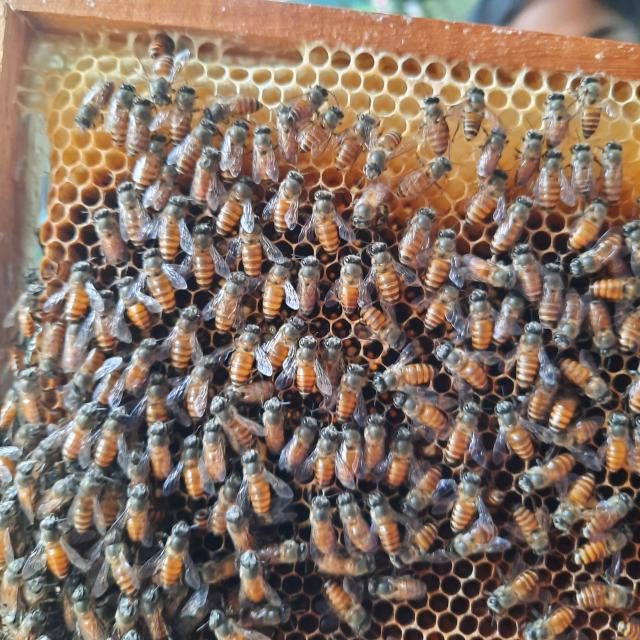honeybee: (340, 174, 406, 238), (434, 341, 491, 404), (230, 544, 273, 626), (140, 418, 185, 495), (391, 519, 457, 570), (87, 208, 135, 278), (320, 580, 376, 640), (418, 222, 462, 296), (151, 525, 199, 589), (286, 102, 341, 157), (172, 114, 218, 179), (560, 353, 612, 410), (367, 492, 408, 564), (132, 256, 180, 317), (63, 398, 104, 469), (91, 408, 136, 472), (306, 490, 341, 571), (338, 430, 379, 499), (381, 427, 423, 494), (136, 587, 189, 640), (567, 225, 619, 279), (182, 427, 217, 507), (490, 192, 534, 255), (343, 490, 379, 567), (190, 213, 227, 287), (455, 468, 494, 538), (521, 452, 581, 497), (210, 467, 250, 534), (212, 396, 252, 463), (580, 478, 629, 532), (307, 190, 347, 256), (536, 259, 575, 326), (450, 245, 512, 287), (177, 358, 217, 423), (574, 76, 612, 144), (110, 80, 146, 150), (491, 403, 530, 466), (114, 181, 150, 249), (384, 394, 445, 434), (512, 320, 546, 391), (568, 134, 598, 214), (68, 342, 108, 402), (228, 316, 263, 384), (400, 200, 437, 264), (147, 198, 190, 253), (487, 576, 542, 619), (360, 300, 402, 356), (73, 458, 102, 539), (268, 169, 304, 234), (293, 253, 326, 323), (513, 506, 557, 558), (261, 312, 301, 369), (440, 406, 478, 466), (568, 524, 628, 562), (122, 94, 157, 159), (512, 601, 570, 640), (164, 306, 201, 367), (370, 236, 403, 304), (200, 420, 234, 486), (362, 122, 398, 184), (513, 128, 549, 190), (466, 286, 502, 348), (555, 289, 591, 351), (93, 293, 130, 353), (400, 152, 454, 193), (453, 518, 508, 558), (250, 122, 286, 183), (572, 577, 633, 613), (468, 170, 507, 226), (374, 362, 436, 397), (286, 411, 324, 468), (77, 75, 113, 135), (598, 142, 634, 202), (10, 374, 47, 432), (218, 177, 252, 240), (103, 534, 137, 597), (135, 152, 176, 204), (38, 469, 74, 528), (330, 360, 362, 426), (262, 396, 294, 461), (290, 335, 321, 401), (563, 199, 614, 239), (555, 470, 585, 538), (94, 472, 128, 532), (64, 259, 96, 322), (239, 448, 272, 509), (259, 259, 295, 314), (117, 434, 153, 489), (15, 285, 50, 340), (217, 114, 244, 184), (40, 516, 67, 586), (131, 128, 163, 187), (140, 367, 170, 429), (606, 410, 634, 476), (272, 84, 323, 120), (418, 100, 452, 154), (223, 509, 259, 560), (406, 466, 446, 511), (367, 571, 427, 601), (123, 334, 155, 390), (117, 277, 150, 331), (517, 250, 548, 307), (204, 612, 267, 640), (259, 528, 299, 572), (334, 255, 363, 315), (538, 89, 570, 143), (342, 105, 368, 171), (239, 208, 265, 274), (198, 93, 266, 118), (12, 464, 39, 526), (230, 372, 280, 404), (475, 126, 503, 182), (21, 542, 48, 600), (188, 142, 214, 202), (212, 272, 238, 331), (66, 589, 96, 640), (124, 482, 144, 558), (314, 430, 341, 486), (363, 414, 384, 486), (594, 301, 620, 359), (423, 290, 455, 337), (61, 324, 88, 379), (492, 294, 518, 349), (526, 369, 554, 420), (154, 54, 183, 102), (591, 272, 640, 300), (104, 599, 137, 640), (319, 332, 340, 396), (274, 104, 299, 157), (463, 92, 488, 143), (538, 148, 558, 210), (549, 389, 575, 436), (0, 552, 19, 615), (42, 316, 61, 378), (34, 415, 62, 456), (172, 92, 196, 138), (618, 308, 640, 356), (9, 606, 39, 640), (4, 386, 22, 440), (622, 217, 640, 269), (0, 439, 15, 488), (622, 372, 640, 412), (574, 414, 594, 445), (432, 472, 454, 499), (186, 504, 209, 529), (148, 34, 172, 56), (619, 618, 640, 640), (486, 485, 507, 506), (24, 266, 42, 290)
